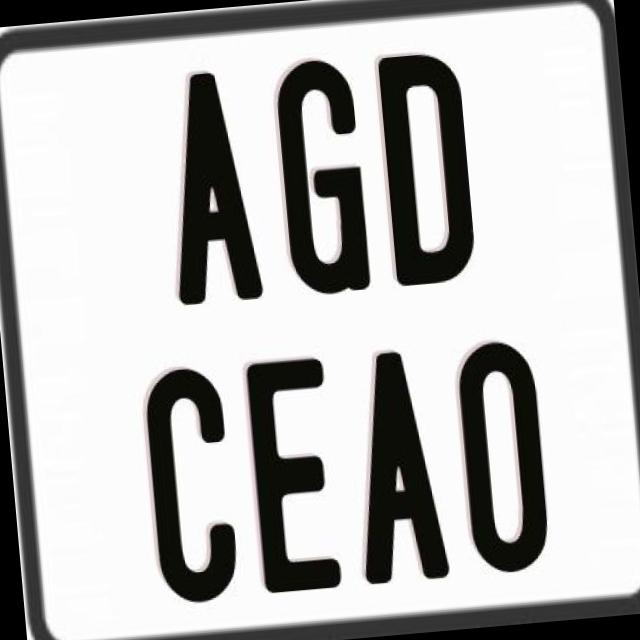0: (451, 335, 555, 581)
A: (344, 343, 454, 580), (156, 68, 262, 313)
C: (142, 366, 242, 615)
D: (378, 49, 486, 292)
E: (242, 355, 344, 598)
G: (272, 54, 370, 294)
